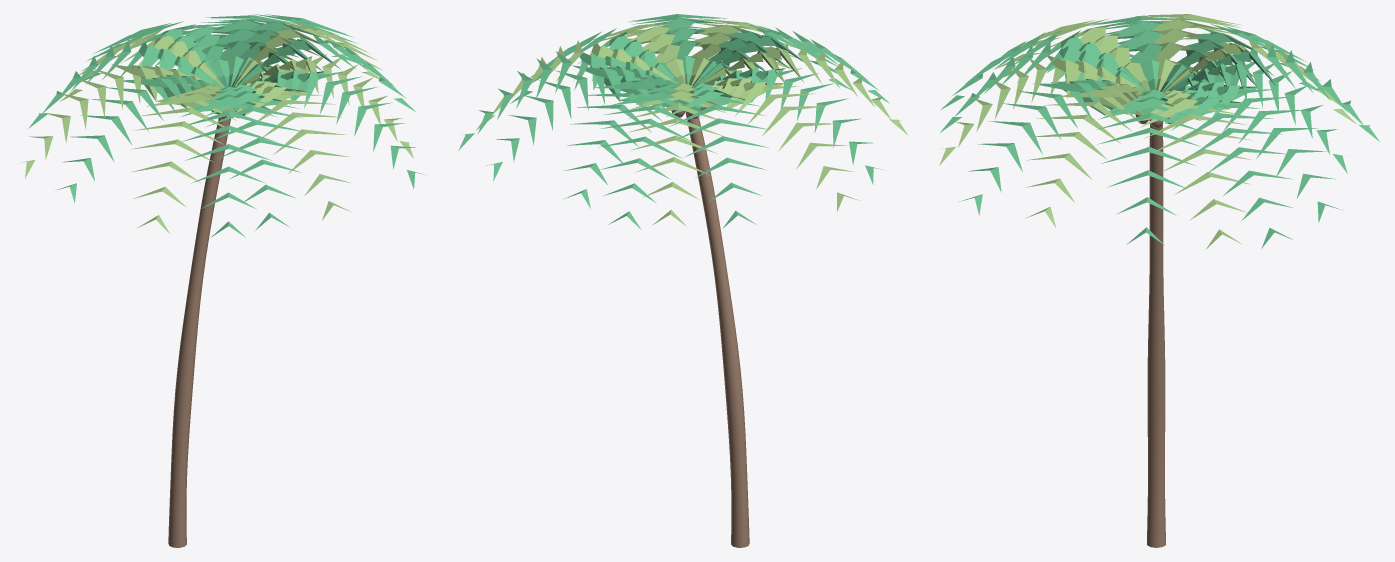
Rendered from palm_2.glb.
3 renders of one model, left to right at view 1: azimuth 30°, elevation 25°; view 2: azimuth 150°, elevation 25°; view 3: azimuth 270°, elevation 25°, orthographic. The views are drawn at different scales.
Parts seen in each view (by area): view 1: Palm_Frond; view 2: Palm_Frond; view 3: Palm_Frond.
Boxes of the visible parts, <box> form: Palm_Frond: <box>22,14,425,547</box>; Palm_Frond: <box>458,14,908,547</box>; Palm_Frond: <box>939,14,1379,547</box>.
Size of the model in its own units: 9.12 by 11.15 by 8.76.
